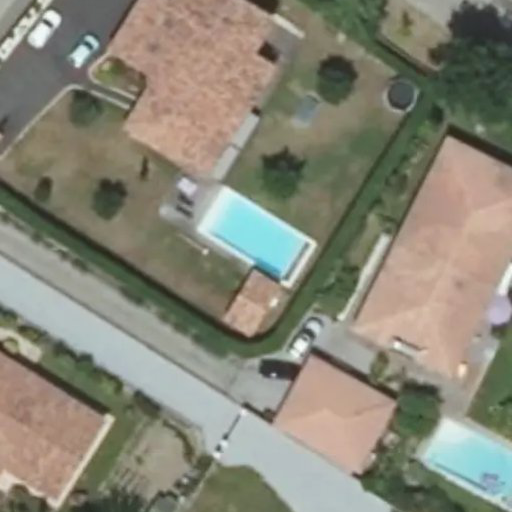pool: (206, 191, 311, 285), (420, 416, 512, 509)
